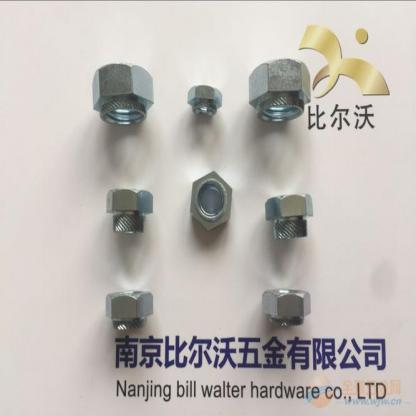FOD: (89, 62, 157, 136), (245, 58, 314, 128), (187, 169, 234, 235), (261, 192, 316, 247), (103, 185, 155, 241), (103, 286, 155, 339), (259, 283, 313, 331), (185, 82, 225, 118)
